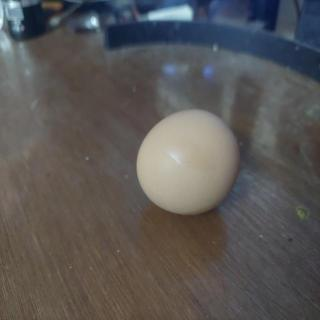Telur: (134, 108, 246, 218)
